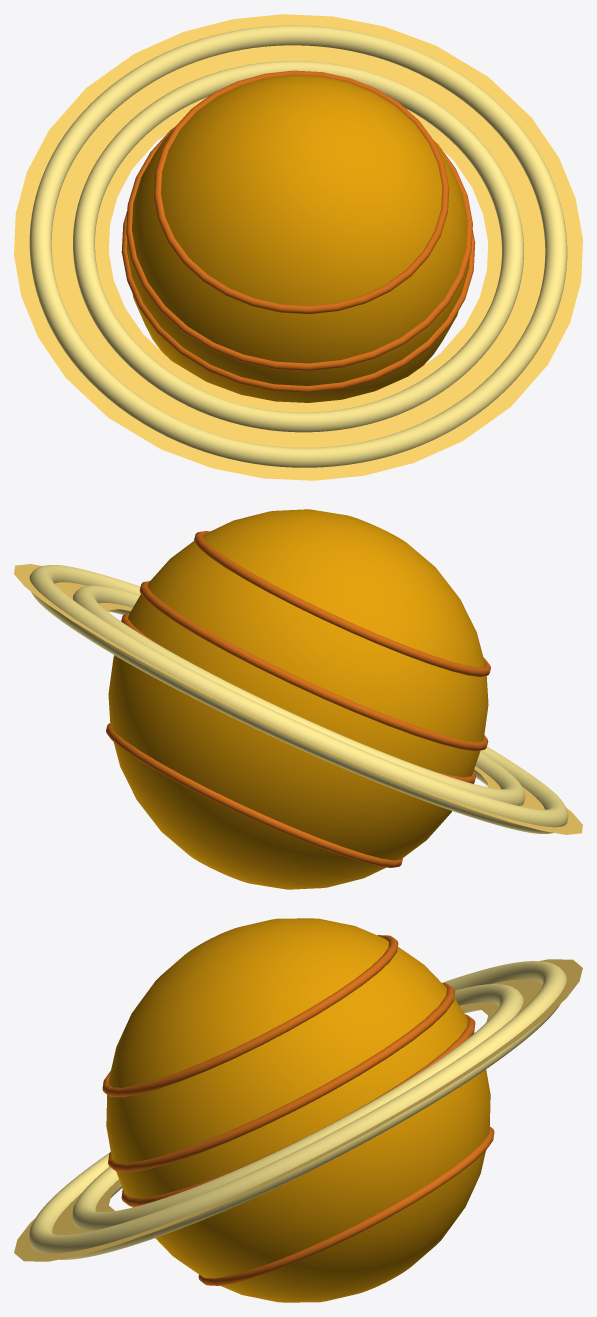
The model's file is Planet-4.glb.
The picture shows the model from 3 angles, top to bottom: view 1: azimuth 30°, elevation 25°; view 2: azimuth 150°, elevation 25°; view 3: azimuth 270°, elevation 25°; orthographic projection. The views are drawn at different scales.
Visible parts, largest first — view 1: Sphere, Roundcube.001, Roundcube.002, Sphere.001; view 2: Sphere, Roundcube.002, Sphere.001, Roundcube.001; view 3: Sphere, Roundcube.002, Sphere.001, Roundcube.001.
Part boxes in pixels (<box>): Sphere: <box>126,75,469,402</box>; Roundcube.001: <box>14,14,582,480</box>; Roundcube.002: <box>29,25,567,467</box>; Sphere.001: <box>121,70,475,392</box>; Sphere: <box>108,509,488,889</box>; Roundcube.002: <box>29,565,568,833</box>; Sphere.001: <box>106,531,490,867</box>; Roundcube.001: <box>14,564,582,834</box>; Sphere: <box>106,918,490,1302</box>; Roundcube.002: <box>29,961,566,1259</box>; Sphere.001: <box>102,935,494,1285</box>; Roundcube.001: <box>14,959,582,1261</box>.
Bounding box in the file's own units: 3.21 × 2 × 2.95.
